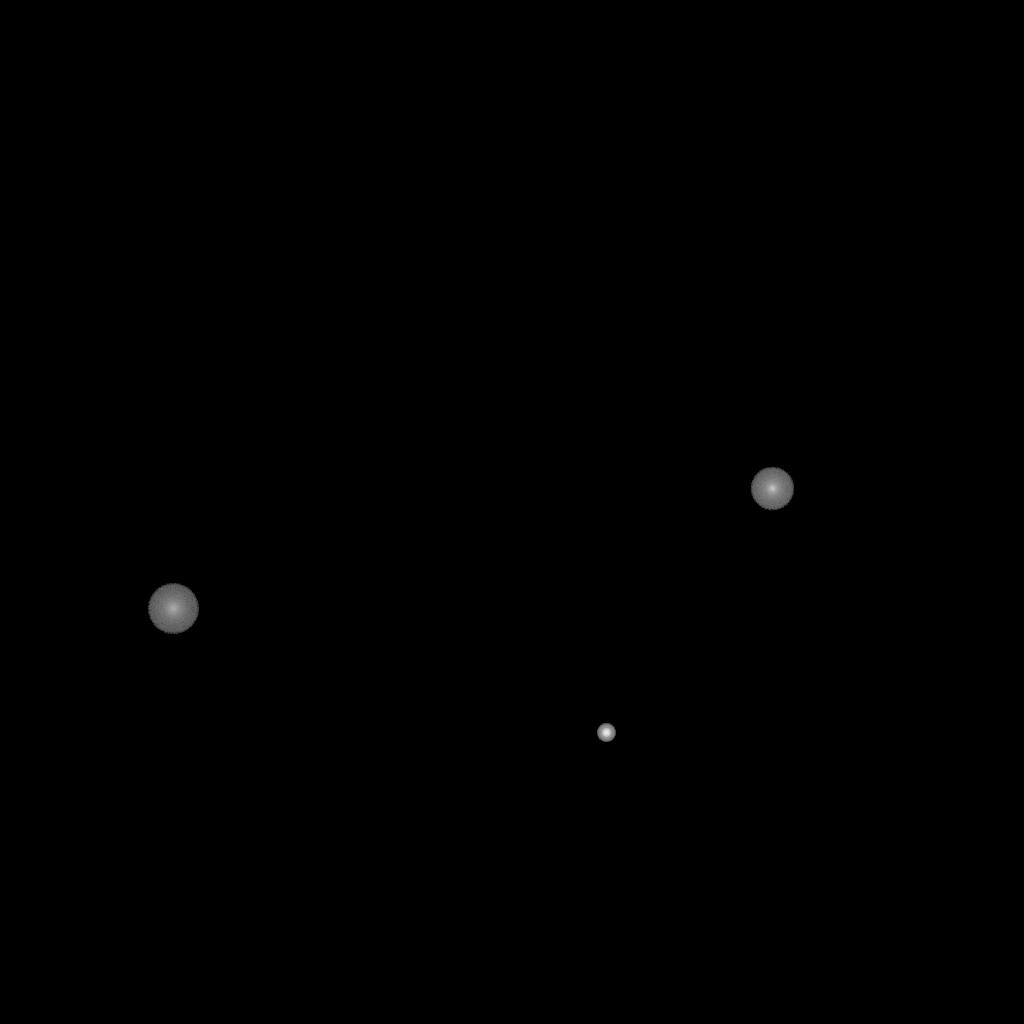depth:-20: (597, 724, 615, 742)
depth:10: (750, 467, 794, 511)
depth:20: (147, 584, 199, 634)
